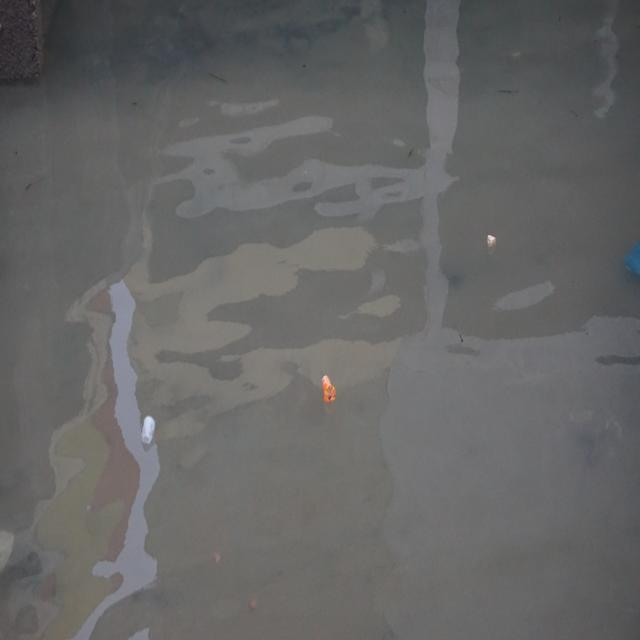Bungkus Minuman: (321, 370, 339, 410), (141, 413, 157, 449)
Kantong Plastik: (624, 240, 640, 281)
